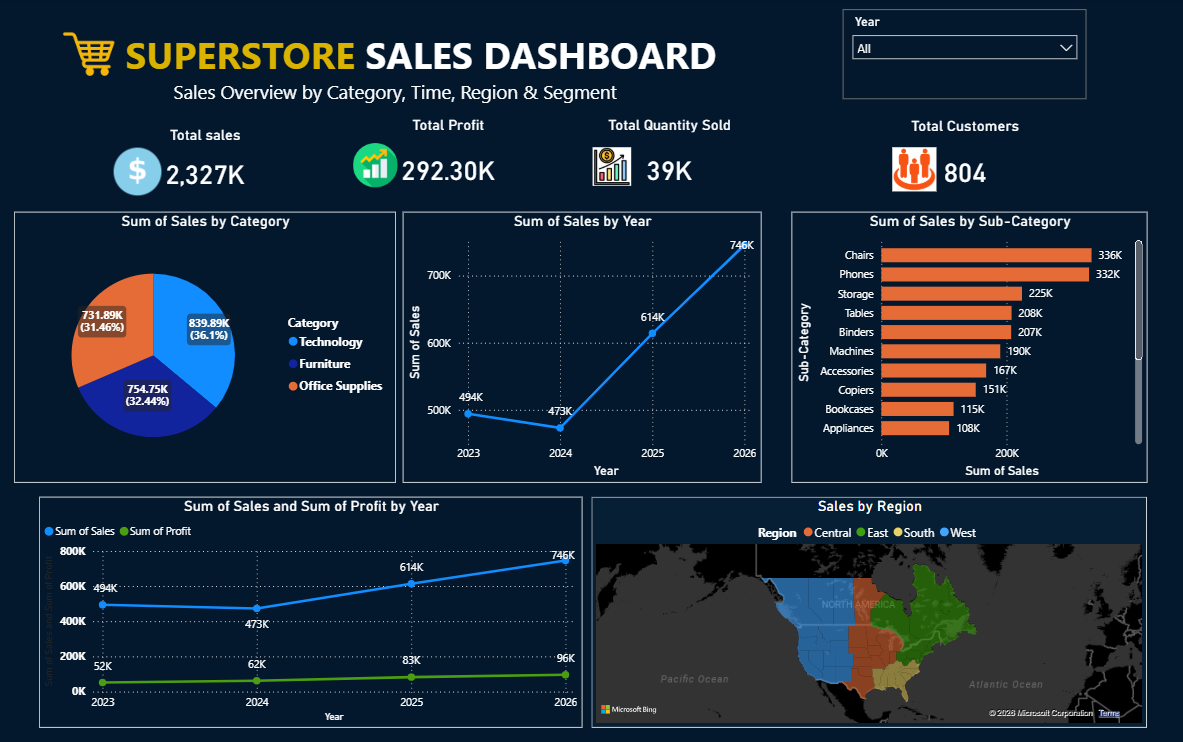

The dashboard page shown, as its layout file describes it:
{"tool":"powerbi","page":{"name":"Power bi  test","canvas":[1350,850],"ordinal":0},"visuals":[{"type":"textbox","box":[22.8,29.9,811.8,96.9],"z":0},{"type":"pieChart","fields":{"Category":["Orders.Category"],"Y":["Sum(Orders.Sales)"]},"box":[16.7,243.5,435.2,308.9],"z":1000},{"type":"lineChart","fields":{"Category":["Orders.Order Date.Variation.Date Hierarchy.Year"],"Y":["Sum(Orders.Sales)"]},"box":[460,243.6,408.8,309.1],"z":2000},{"type":"barChart","fields":{"Y":["Sum(Orders.Sales)"],"Category":["Orders.Sub-Category"]},"box":[903,243.6,405.9,309.1],"z":3000},{"type":"lineChart","fields":{"Category":["Orders.Order Date.Variation.Date Hierarchy.Year"],"Y":["Sum(Orders.Sales)","Sum(Orders.Profit)"]},"box":[45.6,567.6,619.3,263.2],"z":4000},{"type":"filledMap","title":"Sales by Region","fields":{"Category":["Orders.State/Province"],"Series":["Orders.Region"]},"box":[675.6,567.6,633,263.2],"z":5000},{"type":"card","title":"Total sales","fields":{"Values":["Orders.Total Sales"]},"box":[121.1,133.9,233.6,89.7],"z":6000},{"type":"card","title":"Total Profit","fields":{"Values":["Sum(Orders.Profit)"]},"box":[398.8,133.9,226.5,102.5],"z":7000},{"type":"card","title":"Total Quantity Sold","fields":{"Values":["Sum(Orders.Quantity)"]},"box":[625.3,133.9,277.7,104],"z":8000},{"type":"card","title":"Total Customers","fields":{"Values":["Orders.Total Customers"]},"box":[903,126.8,276.3,104],"z":9000},{"type":"slicer","fields":{"Values":["Orders.Order Date.Variation.Date Hierarchy.Year"]},"box":[992.7,0,277.7,102.5],"z":10000},{"type":"image","box":[45.6,29.9,78.3,68.4],"z":11000},{"type":"image","box":[118.2,145.3,79.8,105.4],"z":12000},{"type":"image","box":[398.8,158.1,59.8,65.5],"z":13000},{"type":"image","box":[665.1,165.2,66.9,54.1],"z":14000},{"type":"image","box":[934.3,155.2,92.6,59.8],"z":15000}]}

Visuals, with their boxes in screenshot pixels (x1, y1, x2, y2), scaled from the page's 1350x850 canvas onto the 1183x742 screenshot:
textbox: <region>20, 26, 731, 111</region>
pieChart - Orders.Category x Sum(Orders.Sales): <region>15, 213, 396, 482</region>
lineChart - Orders.Order Date.Variation.Date Hierarchy.Year x Sum(Orders.Sales): <region>403, 213, 761, 482</region>
barChart - Sum(Orders.Sales) x Orders.Sub-Category: <region>791, 213, 1147, 482</region>
lineChart - Orders.Order Date.Variation.Date Hierarchy.Year x Sum(Orders.Sales): <region>40, 495, 583, 725</region>
"Sales by Region" filledMap: <region>592, 495, 1147, 725</region>
"Total sales" card: <region>106, 117, 311, 195</region>
"Total Profit" card: <region>349, 117, 548, 206</region>
"Total Quantity Sold" card: <region>548, 117, 791, 208</region>
"Total Customers" card: <region>791, 111, 1033, 201</region>
slicer - Orders.Order Date.Variation.Date Hierarchy.Year: <region>870, 0, 1113, 89</region>
image: <region>40, 26, 109, 86</region>
image: <region>104, 127, 174, 219</region>
image: <region>349, 138, 402, 195</region>
image: <region>583, 144, 641, 191</region>
image: <region>819, 135, 900, 188</region>
